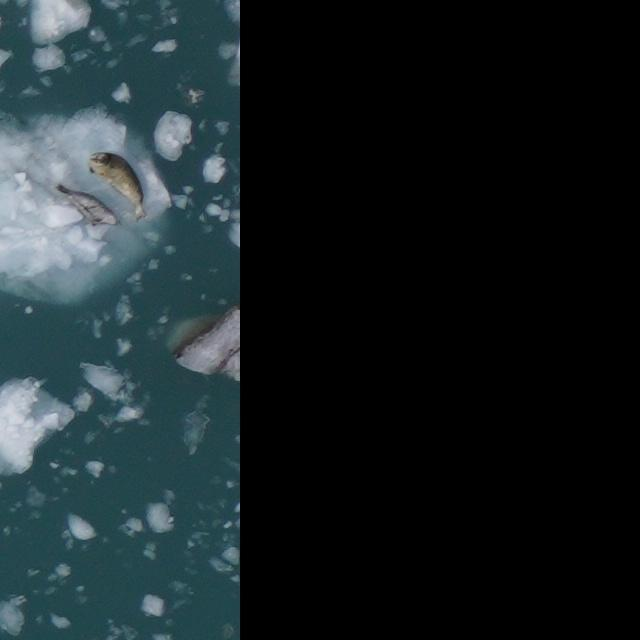seal: (78, 137, 163, 223), (52, 174, 120, 237)
